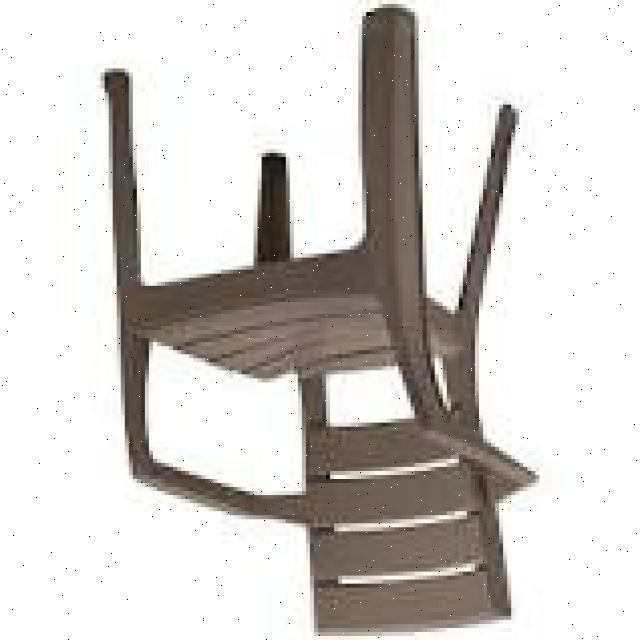bottle: (101, 8, 546, 634)
